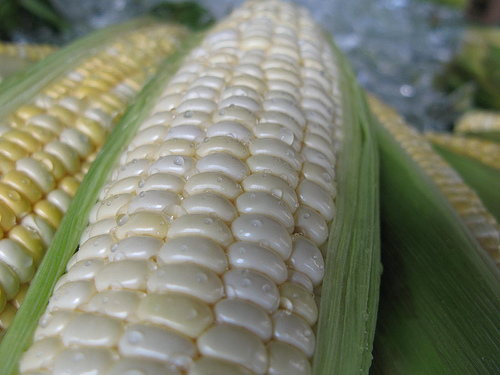corn: (2, 0, 381, 372), (0, 13, 196, 336), (348, 78, 499, 369)
